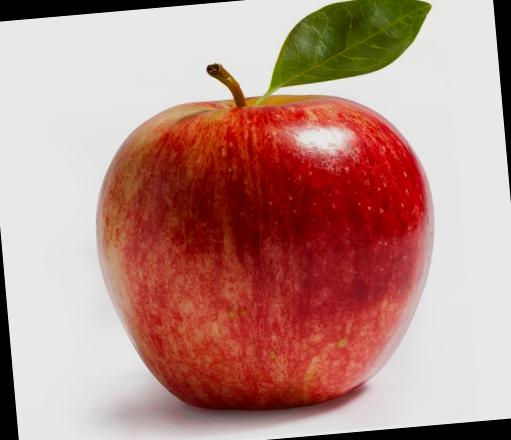Apple Ripe: (84, 43, 457, 423)
